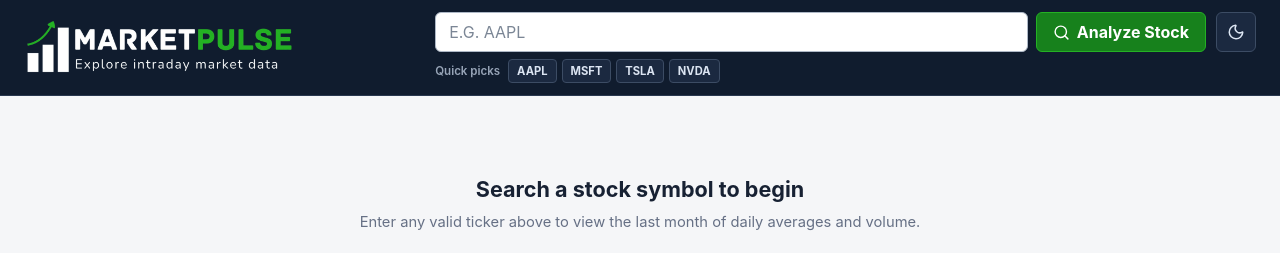
Scenario: MarketPulse app › renders a friendly not-found message for 404 responses
The width and height of the screenshot is (1280, 253).
Click the button "TSLA". click: click(640, 71)
box: [616,59,664,83]
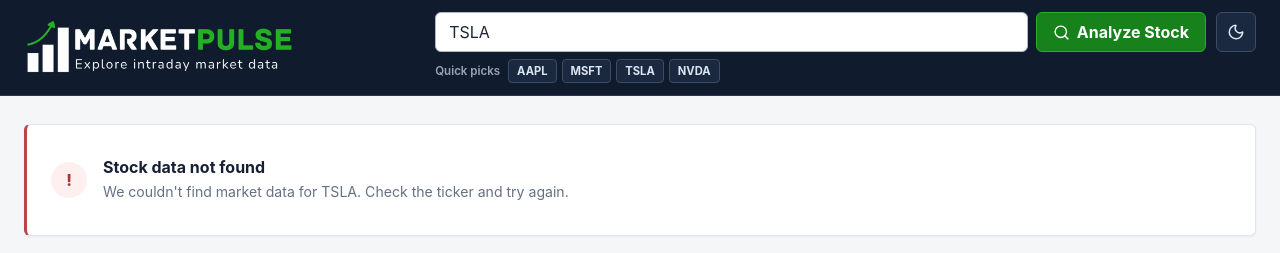
Result: the message shows "Stock data not found" at [103,157,265,177]
Result: the text "We couldn't find market data for TSLA. Check the ticker and try again." is shown at [103,181,569,202]
